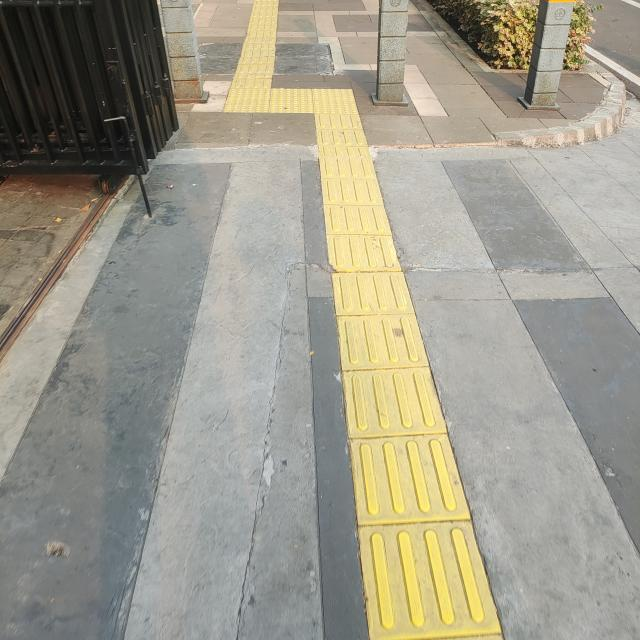lurus: (300, 118, 474, 640), (238, 0, 279, 79)
